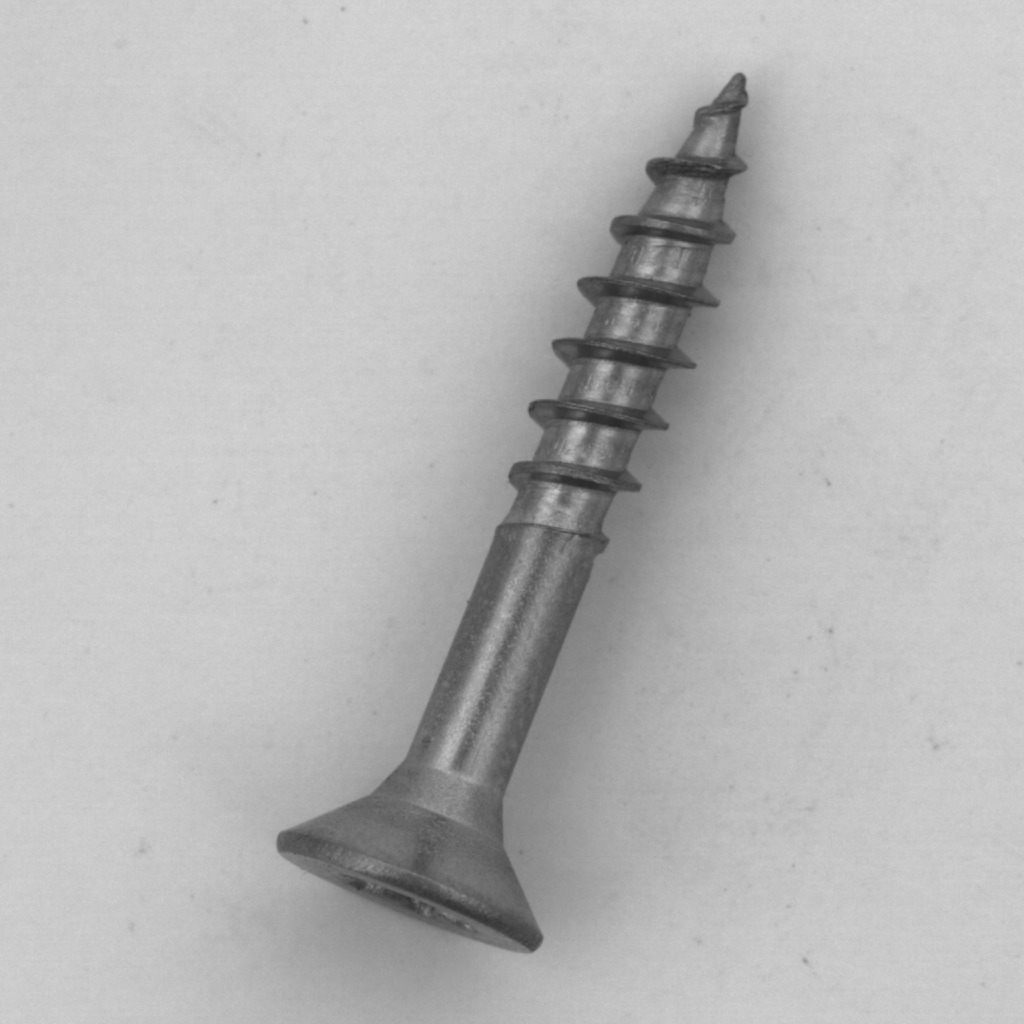good: (254, 37, 771, 973)
